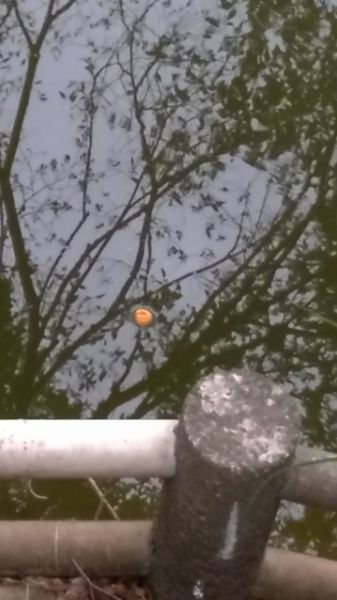eggs: (130, 305, 157, 329)
